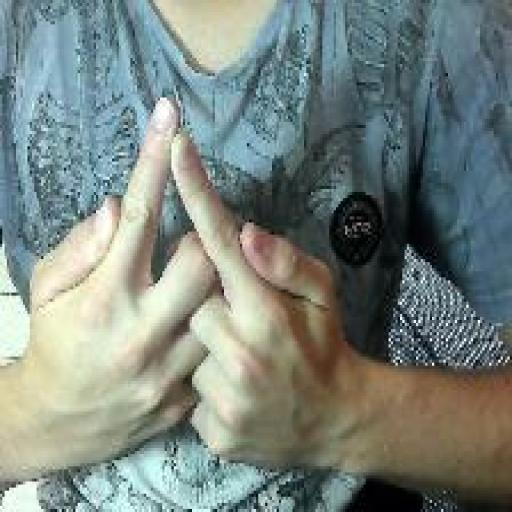Uma -horse-: (26, 94, 346, 482)
